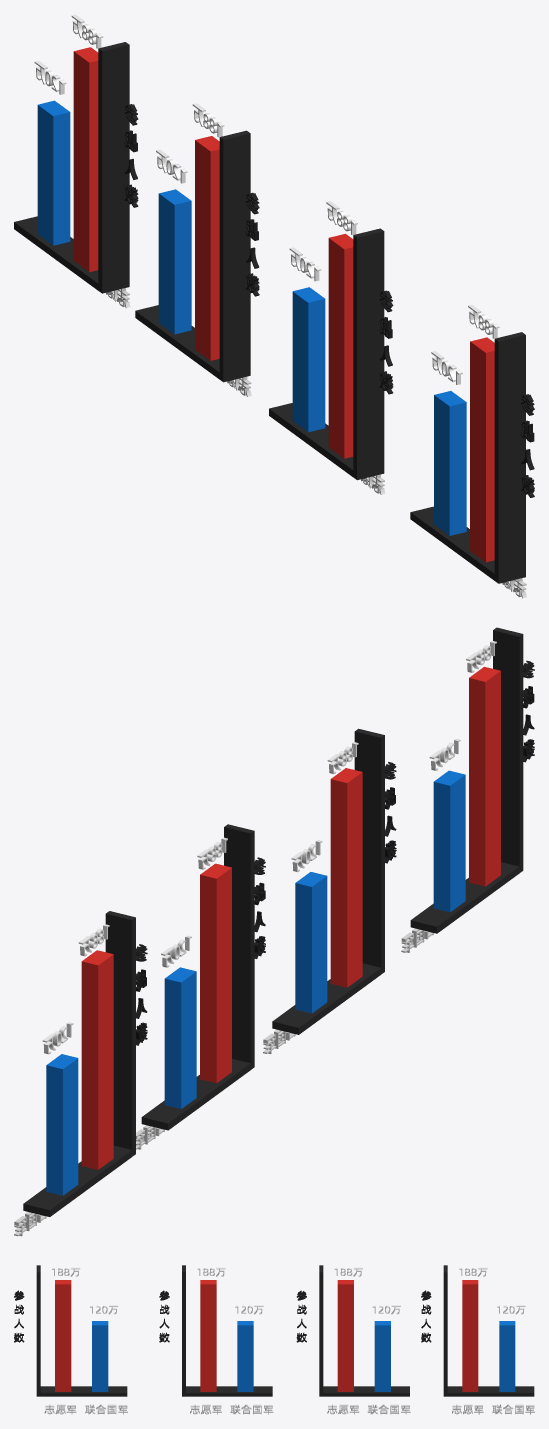
File: chart.glb
The picture shows the model from 3 angles, top to bottom: view 1: azimuth 30°, elevation 25°; view 2: azimuth 150°, elevation 25°; view 3: azimuth 270°, elevation 25°; orthographic projection. The views are drawn at different scales.
Visible parts, largest first — view 1: 立方体.001, 立方体.009, 立方体.013, 立方体.005, 立方体.006, 立方体.014, 立方体.002, 立方体.010, 立方体.011, 立方体.015, 立方体.007, 立方体.003 (+8 smaller); view 2: 立方体.006, 立方体.014, 立方体.002, 立方体.010, 立方体.001, 立方体.009, 立方体.005, 立方体.013, 立方体.015, 立方体.003, 立方体.011, 立方体.007 (+8 smaller); view 3: 立方体.002, 立方体.006, 立方体.010, 立方体.014, 立方体.003, 立方体.007, 立方体.011, 立方体.015, 立方体.012, 立方体.004, 立方体, 立方体.008 (+16 smaller).
Part boxes in pixels (left/top/right/bottom): 立方体.001: left=494, top=332, right=525, bottom=583; 立方体.009: left=219, top=130, right=250, bottom=382; 立方体.013: left=98, top=42, right=129, bottom=293; 立方体.005: left=353, top=228, right=384, bottom=480; 立方体.006: left=328, top=233, right=353, bottom=458; 立方体.014: left=73, top=47, right=98, bottom=271; 立方体.002: left=470, top=337, right=494, bottom=562; 立方体.010: left=195, top=136, right=219, bottom=360; 立方体.011: left=158, top=189, right=191, bottom=334; 立方体.015: left=37, top=100, right=70, bottom=245; 立方体.007: left=292, top=287, right=325, bottom=432; 立方体.003: left=434, top=391, right=466, bottom=535; 立方体.006: left=330, top=768, right=362, bottom=987; 立方体.014: left=81, top=950, right=113, bottom=1169; 立方体.002: left=469, top=666, right=500, bottom=886; 立方体.010: left=200, top=863, right=231, bottom=1083; 立方体.001: left=493, top=627, right=523, bottom=872; 立方体.009: left=224, top=824, right=254, bottom=1069; 立方体.005: left=354, top=728, right=384, bottom=974; 立方体.013: left=105, top=911, right=135, bottom=1156; 立方体.015: left=46, top=1054, right=78, bottom=1195; 立方体.003: left=433, top=770, right=465, bottom=912; 立方体.011: left=164, top=967, right=196, bottom=1108; 立方体.007: left=295, top=872, right=327, bottom=1013; 立方体.002: left=55, top=1280, right=71, bottom=1391; 立方体.006: left=200, top=1280, right=216, bottom=1391; 立方体.010: left=337, top=1280, right=353, bottom=1391; 立方体.014: left=462, top=1280, right=478, bottom=1391; 立方体.003: left=92, top=1321, right=108, bottom=1391; 立方体.007: left=237, top=1321, right=253, bottom=1391; 立方体.011: left=374, top=1321, right=390, bottom=1391; 立方体.015: left=499, top=1321, right=515, bottom=1391; 立方体.012: left=447, top=1386, right=534, bottom=1396; 立方体.004: left=185, top=1386, right=272, bottom=1396; 立方体: left=40, top=1386, right=127, bottom=1396; 立方体.008: left=323, top=1386, right=409, bottom=1396.
Bounding box in the file's own units: 1.06 × 7.7 × 25.8.
